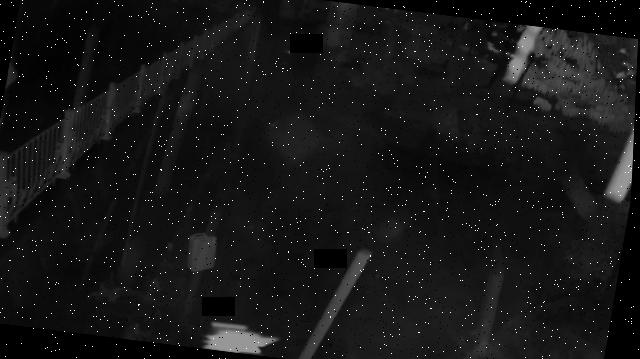bag: (185, 230, 222, 273)
